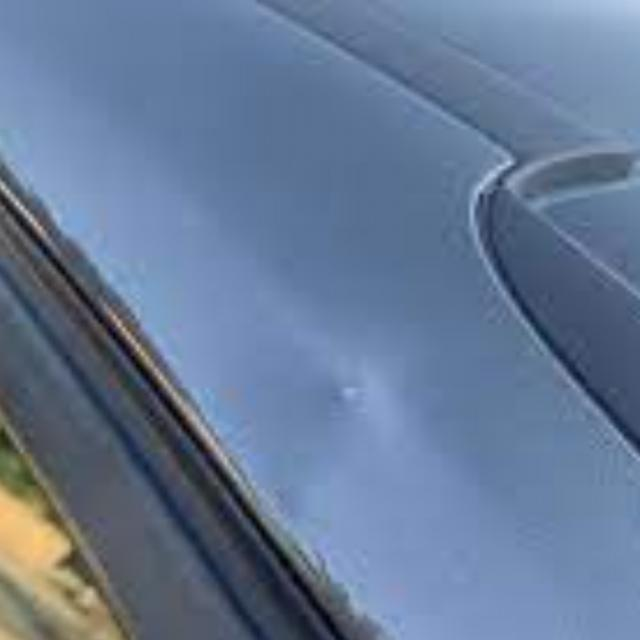dents: (235, 304, 461, 546)
